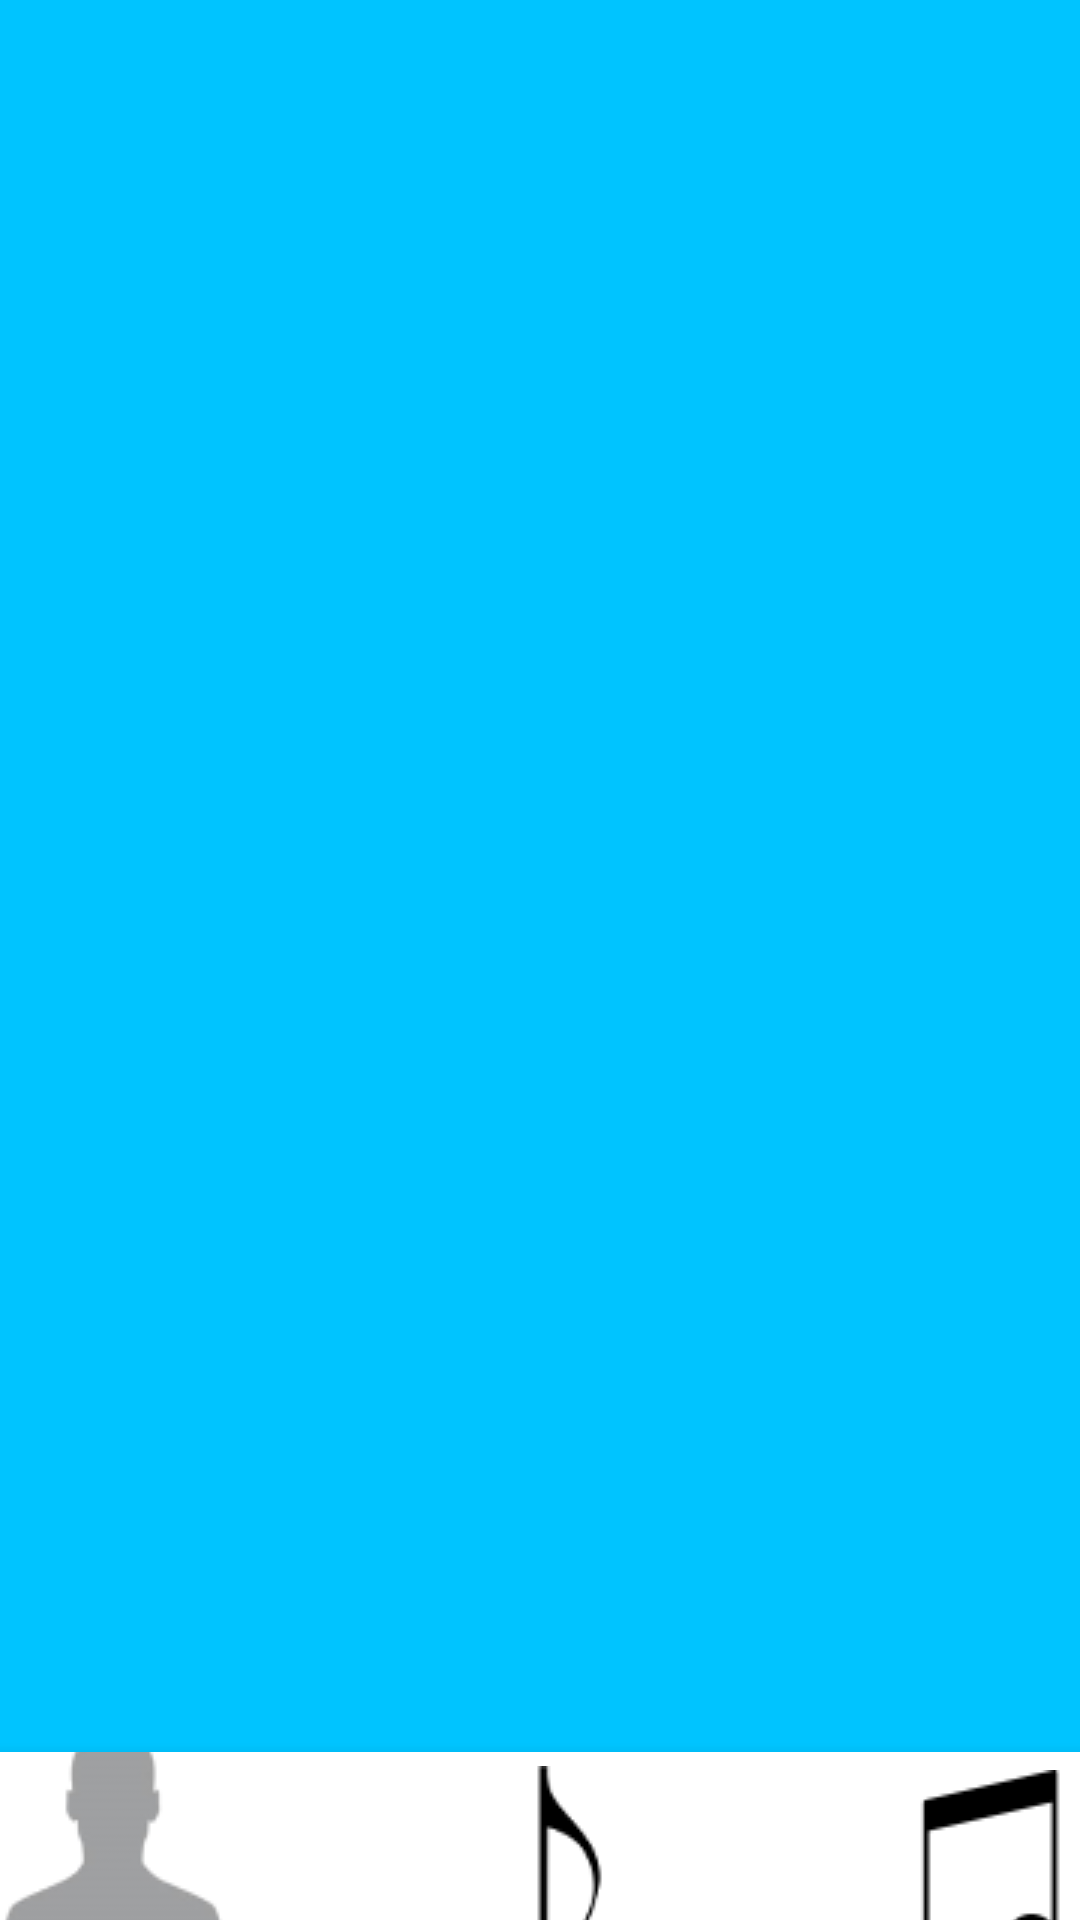

Icon click points for this 1080px x 1920px phone screenshot, format point (x, y):
profile image button: point (112, 1836)
